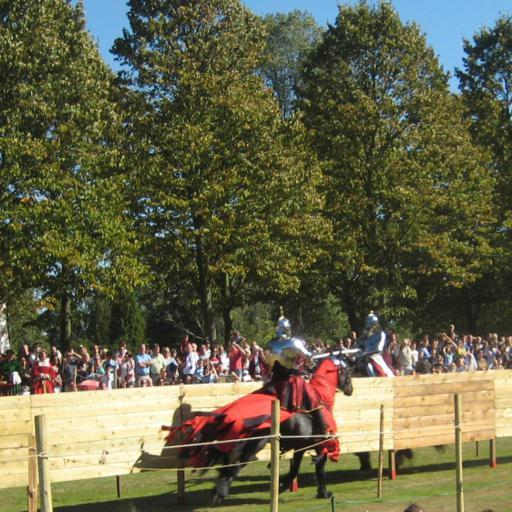horse: (210, 344, 356, 508), (346, 353, 452, 476)
